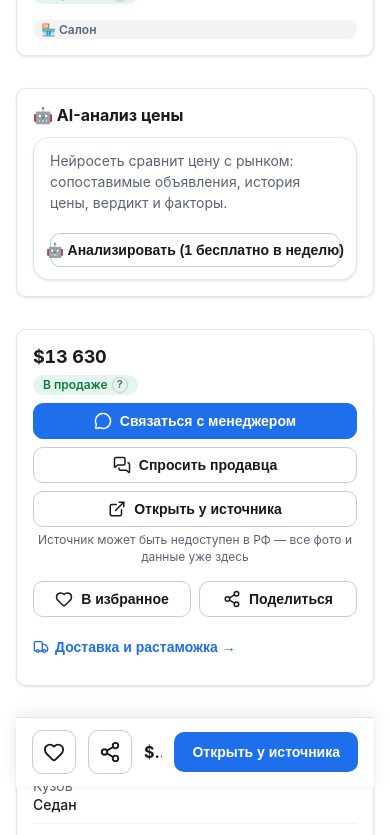
Scenario: «Связаться с менеджером» (POST /listings/{id}/contact) › 409: тост «Вы уже оставляли заявку по этой машине сегодня», кнопка не «отправлена»
(page scrolled)
What coordinates should you click on to do the following:
click the button "Связаться с менеджером"
I would click on:
 (195, 420)
Its box is [33,402,357,438].
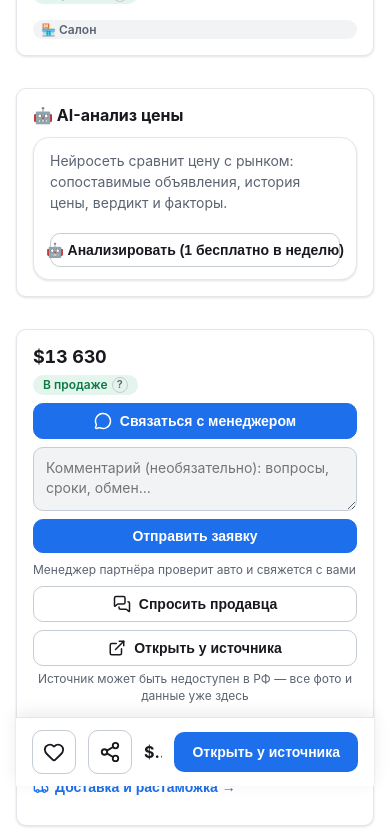
What coordinates should you click on to do the following:
click the button "Отправить заявку"
I would click on:
 (195, 536)
Its box is [33,518,357,552].
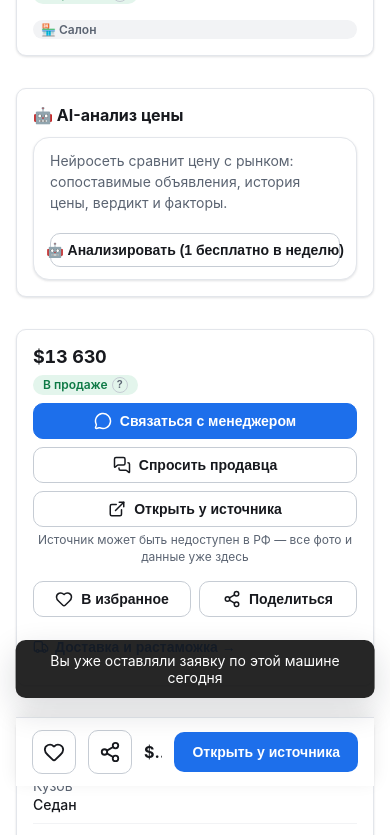
Expected: the button "Связаться с менеджером" is shown, [33,402,357,438]
Expected: the text "Вы уже оставляли заявку по этой машине сегодня" is shown, [16,640,374,698]
